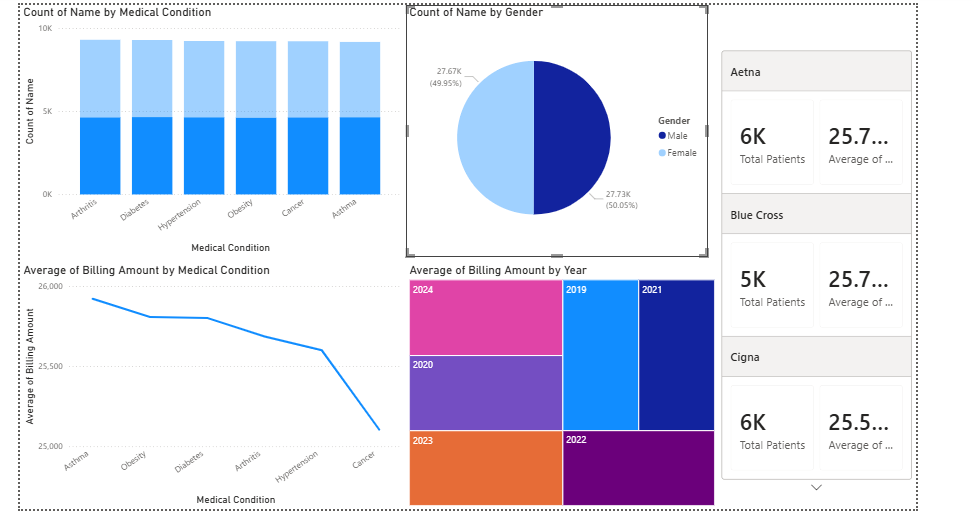

The dashboard page shown, as its layout file describes it:
{"tool":"powerbi","page":{"name":"Page 1","canvas":[1280,720],"ordinal":0},"visuals":[{"type":"pieChart","fields":{"Category":["cleaned_healthcare.Gender"],"Y":["CountNonNull(cleaned_healthcare.Name)"]},"box":[551.4,0,431.4,360],"z":0},{"type":"clusteredColumnChart","fields":{"Category":["cleaned_healthcare.Medical Condition"],"Y":["CountNonNull(cleaned_healthcare.Name)"]},"box":[0,0,551,359.5],"z":1000},{"type":"lineChart","fields":{"Category":["cleaned_healthcare.Medical Condition"],"Y":["Avg(cleaned_healthcare.Billing Amount)"]},"box":[0,369,551,351],"z":2000},{"type":"treemap","fields":{"Values":["Avg(cleaned_healthcare.Billing Amount)"],"Group":["cleaned_healthcare.Admit_date.Variation.Date Hierarchy.Year","cleaned_healthcare.Admit_date.Variation.Date Hierarchy.Quarter","cleaned_healthcare.Admit_date.Variation.Date Hierarchy.Month","cleaned_healthcare.Admit_date.Variation.Date Hierarchy.Day"]},"box":[551.4,368.6,445.7,351.4],"z":3000},{"type":"cardVisual","fields":{"Data":["cleaned_healthcare.Total Patients","Avg(cleaned_healthcare.Billing Amount)"],"Rows":["cleaned_healthcare.Insurance Provider"]},"box":[997.1,40,282.9,664.3],"z":3001}]}

Visuals, with their boxes in screenshot pixels (x1, y1, x2, y2):
pieChart - cleaned_healthcare.Gender x CountNonNull(cleaned_healthcare.Name): 405 13 702 261
clusteredColumnChart - cleaned_healthcare.Medical Condition x CountNonNull(cleaned_healthcare.Name): 25 13 405 260
lineChart - cleaned_healthcare.Medical Condition x Avg(cleaned_healthcare.Billing Amount): 25 267 405 509
treemap - Avg(cleaned_healthcare.Billing Amount) x cleaned_healthcare.Admit_date.Variation.Date Hierarchy.Year: 405 267 712 509
cardVisual - cleaned_healthcare.Total Patients x Avg(cleaned_healthcare.Billing Amount): 712 40 907 498
